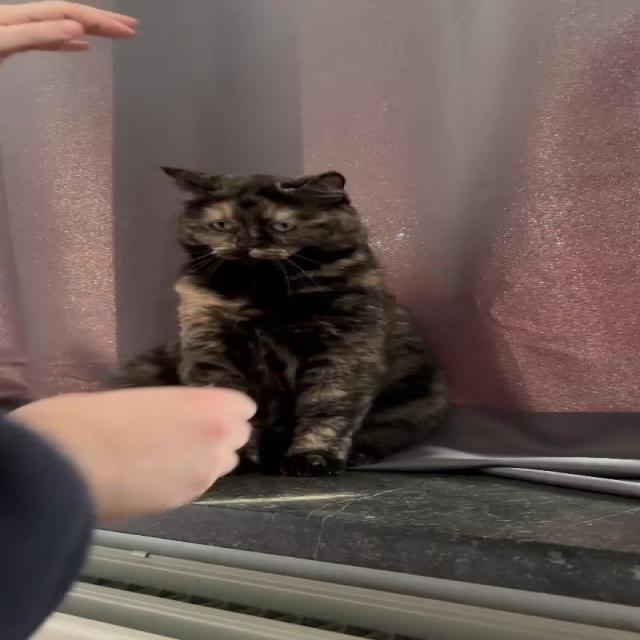authorized: (107, 165, 450, 477)
